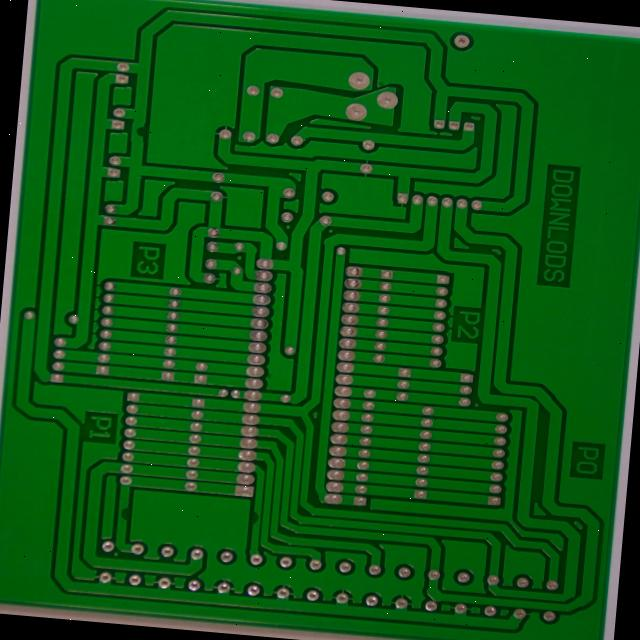mouse_bite: (112, 503, 132, 525), (128, 122, 148, 142), (244, 507, 262, 529)
